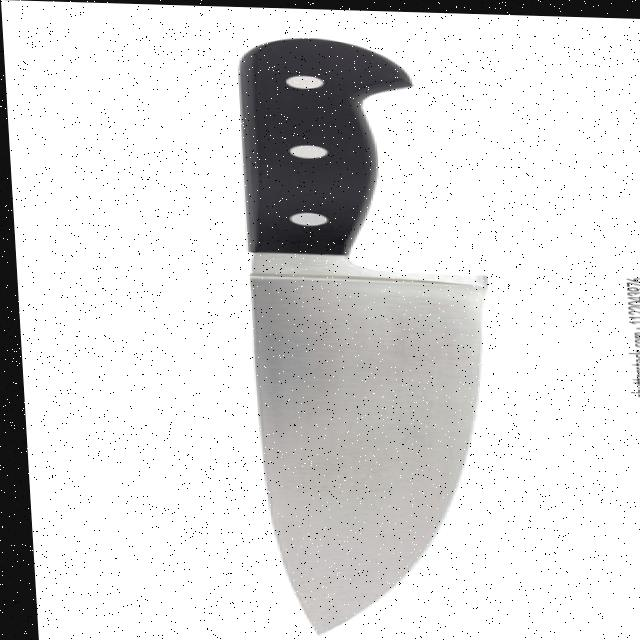knife: (227, 34, 505, 640)
